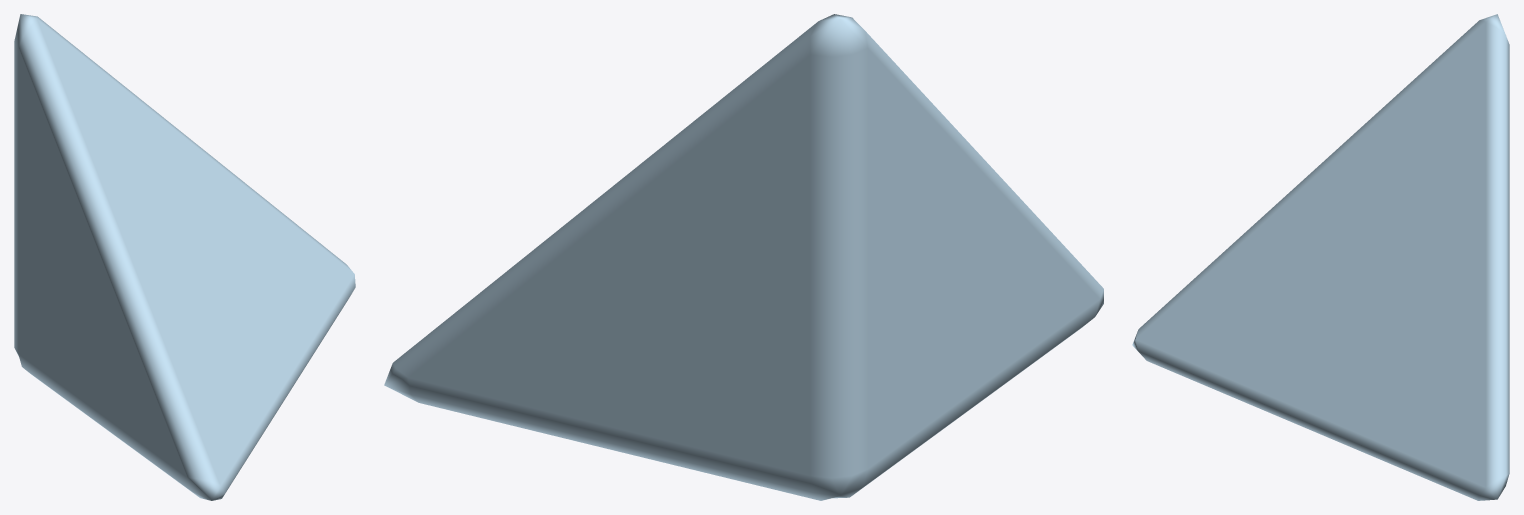
The model's file is R4B_Tetra.fbx.
3 renders of one model, left to right at view 1: azimuth 30°, elevation 25°; view 2: azimuth 150°, elevation 25°; view 3: azimuth 270°, elevation 25°, orthographic. The views are drawn at different scales.
Visible parts, largest first — view 1: R4B_Tetra; view 2: R4B_Tetra; view 3: R4B_Tetra.
Part boxes in pixels (x1,y1,x2,y2): R4B_Tetra: [14, 14, 355, 500]; R4B_Tetra: [384, 14, 1103, 500]; R4B_Tetra: [1132, 14, 1509, 500].
Size of the model in its own units: 0.4656 by 0.4656 by 0.4656.
